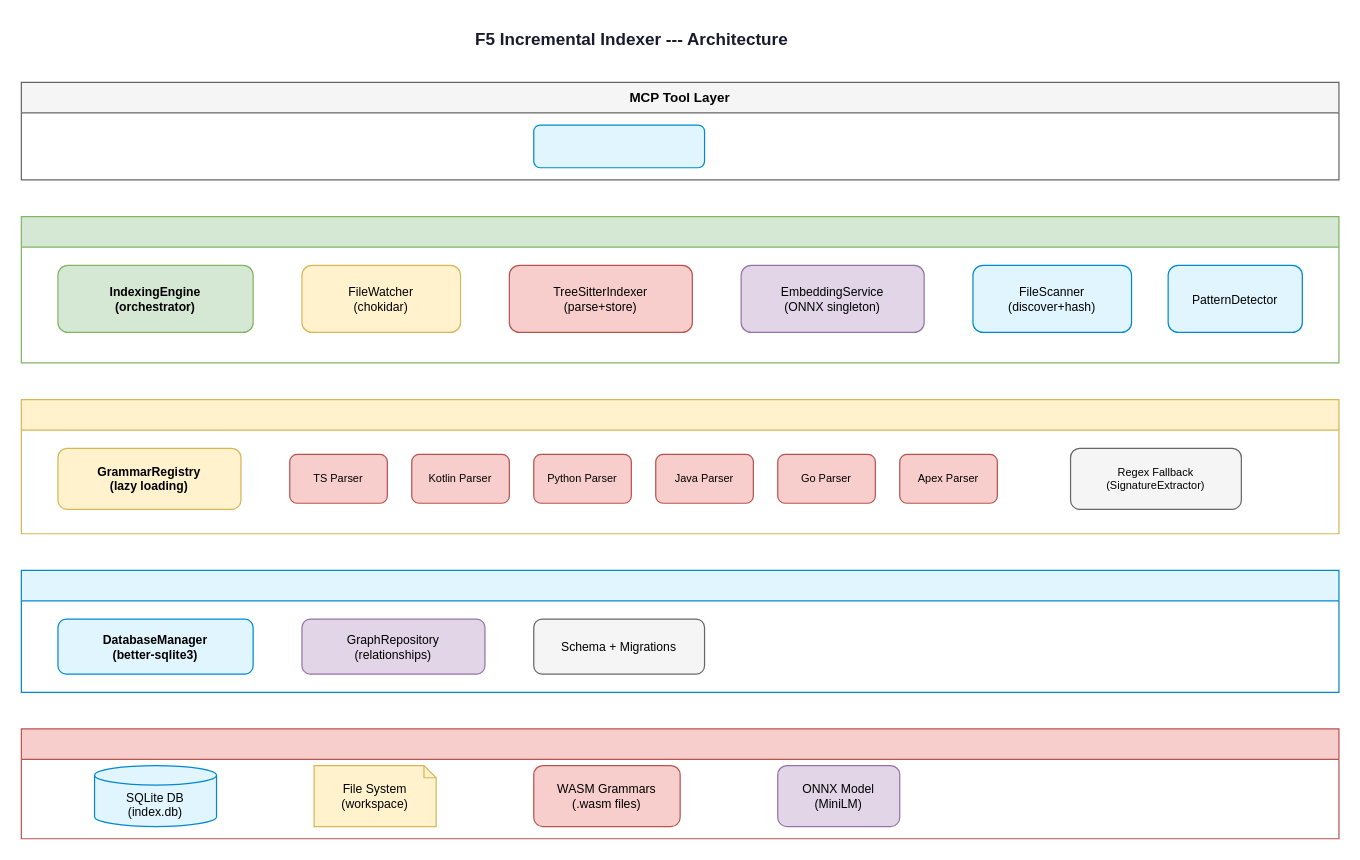
This 1360x860 diagram has some shape labels left out. The shapes that lost their labels are listed below. From the top down, each one's box as (x1, y1, x2, y2) in pixels, then its label:
(533, 124, 705, 168): code_index_status
(20, 215, 1339, 363): Service Layer
(20, 398, 1339, 534): Grammar Layer
(20, 569, 1339, 692): Data Access Layer
(20, 728, 1339, 839): External
